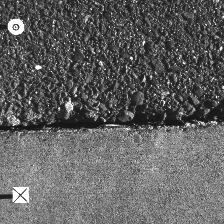circle: (7, 18, 24, 35)
crack: (1, 112, 223, 130)
square: (12, 186, 29, 203)
